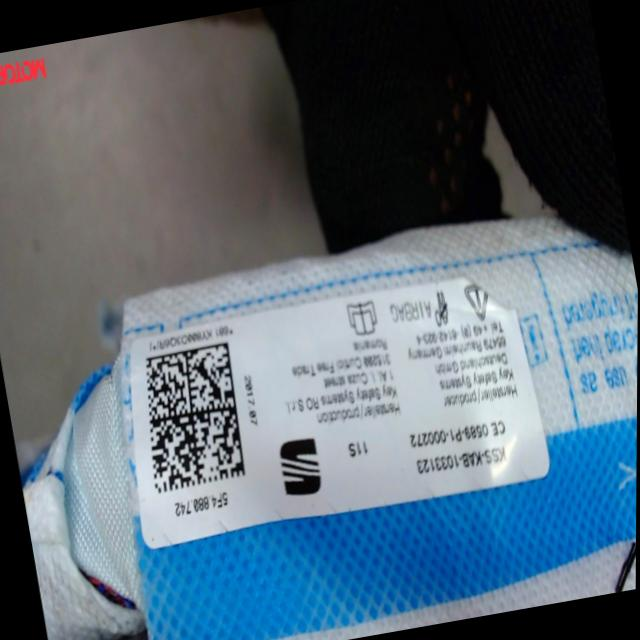datamatrix: (133, 342, 253, 495)
